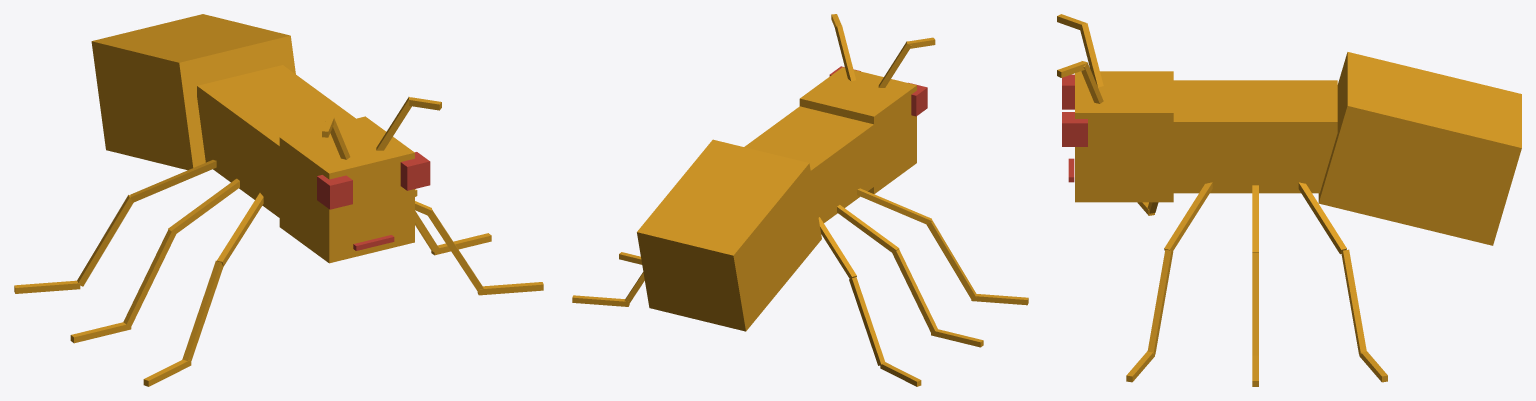
Rendered from KnightAnt.fbx.
3 views of the same model, side by side, from view 1: azimuth 30°, elevation 25°; view 2: azimuth 150°, elevation 25°; view 3: azimuth 270°, elevation 25° (orthographic). The views are drawn at different scales.
Parts seen in each view (by area): view 1: Cube.001, Cube.022, Cube.023; view 2: Cube.001, Cube.022; view 3: Cube.001, Cube.023, Cube.022.
Part boxes in pixels (x1,y1,x2,y2): Cube.001: [14, 14, 543, 386]; Cube.022: [317, 175, 352, 209]; Cube.023: [400, 152, 430, 190]; Cube.001: [572, 14, 1028, 386]; Cube.022: [908, 82, 927, 116]; Cube.001: [1057, 14, 1521, 386]; Cube.023: [1062, 112, 1087, 146]; Cube.022: [1062, 74, 1074, 109].
Size of the model in its own units: 175 by 98.59 by 170.
